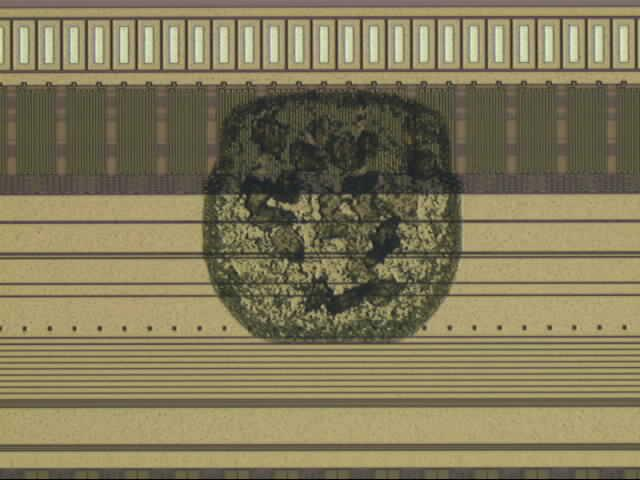PO CONTAMINATION: (196, 77, 477, 355)
